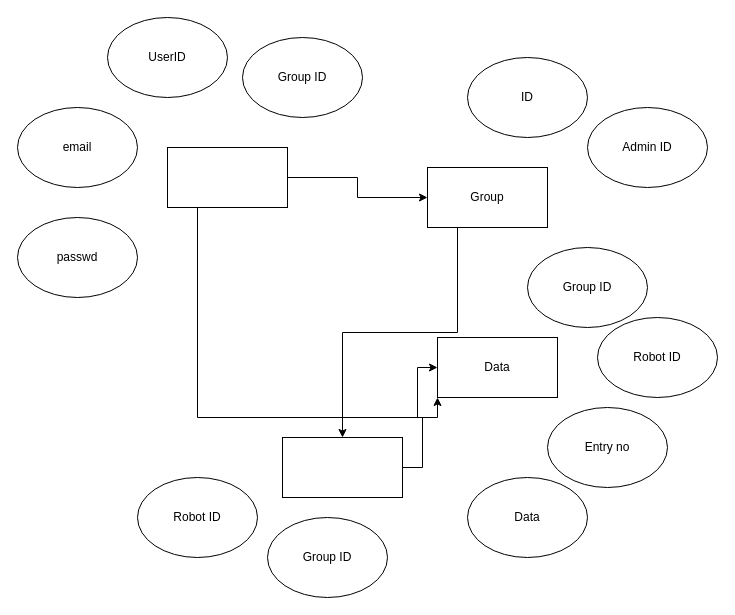
This 735x615 diagram has some shape labels left out. Here are the shapes that lost their labels. From the top down, the box of each, then its label:
(166, 146, 288, 208): User
(282, 436, 402, 498): Robot
